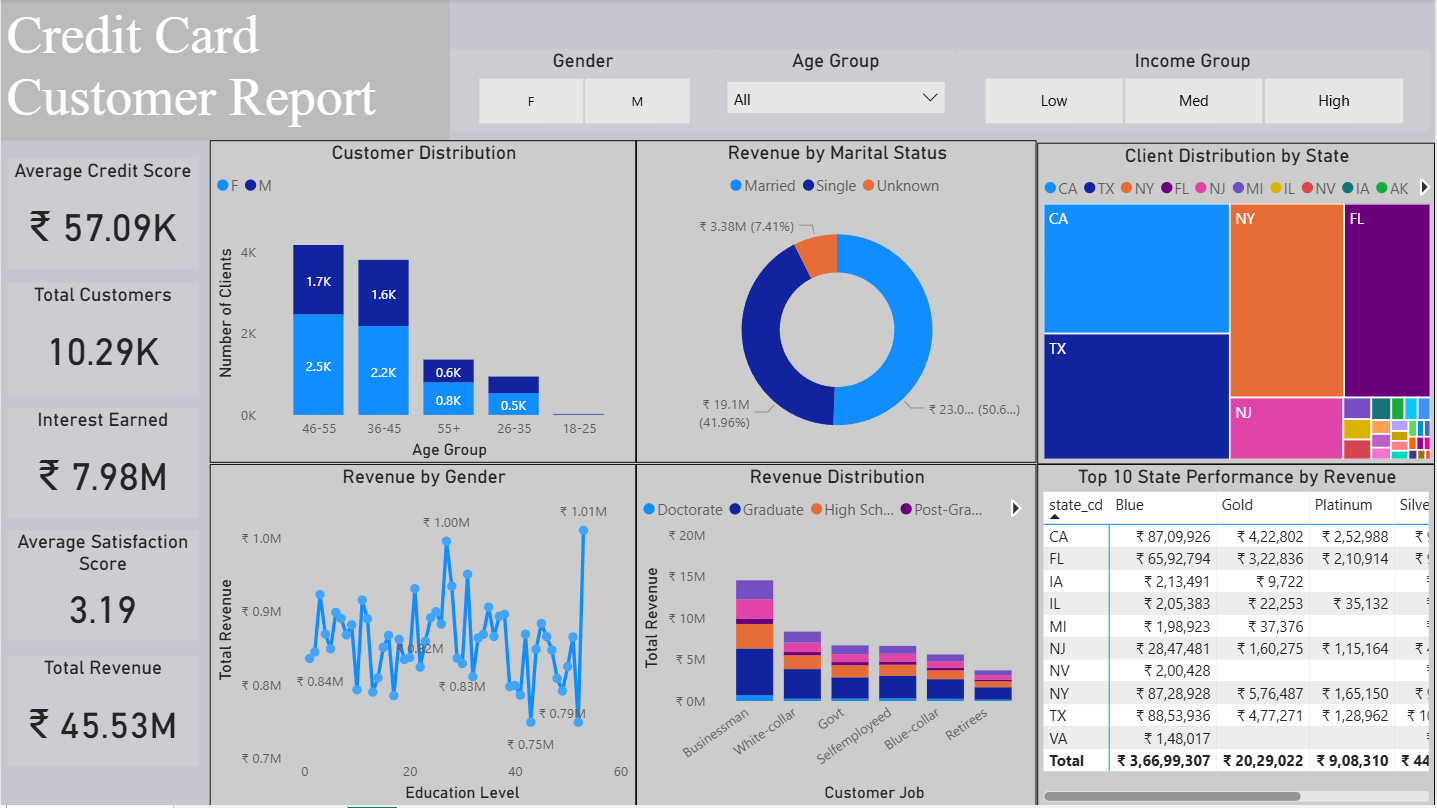

The page's visual inventory and layout, read from the dashboard file:
{"tool":"powerbi","page":{"name":"Customer Report","canvas":[1280,720],"ordinal":0},"visuals":[{"type":"shape","box":[0,126.7,185.9,593.8],"z":0},{"type":"shape","box":[400.9,0,879.6,126.7],"z":1000},{"type":"slicer","title":"Gender","fields":{"Values":["customer.Gender"]},"box":[400.8,45.1,238.2,73.2],"z":2000},{"type":"slicer","title":"Age Group","fields":{"Values":["customer.Age_Group"]},"box":[639,45.1,213.8,73.2],"z":3000},{"type":"slicer","title":"Income Group","fields":{"Values":["customer.Income_Group"]},"box":[852.8,45.1,423,73.2],"z":4000},{"type":"card","title":"Average Credit Score","fields":{"Values":["Key_Measures.Avg_Income"]},"box":[5.8,142.9,170.8,98.8],"z":5000},{"type":"card","title":"Total Revenue","fields":{"Values":["Key_Measures.Total_Revenue"]},"box":[5.8,586.8,170.8,98.8],"z":6000},{"type":"card","title":"Total Customers","fields":{"Values":["CountNonNull(customer.Client_Num)"]},"box":[5.8,253.3,170.8,98.8],"z":9000},{"type":"card","title":"Interest Earned","fields":{"Values":["Sum(CreditCard.Interest_Earned)"]},"box":[5.8,364.9,170.8,98.8],"z":10000},{"type":"card","title":"Average Satisfaction Score","fields":{"Values":["Avg(customer.Cust_Satisfaction_Score)"]},"box":[5.8,474.1,170.8,98.8],"z":11000},{"type":"columnChart","title":"Customer Distribution","fields":{"Category":["customer.Age_Group"],"Y":["CountNonNull(customer.Client_Num)"],"Series":["customer.Gender"]},"box":[185.9,126.7,381.1,288.2],"z":12000},{"type":"lineChart","title":"Revenue by Gender","fields":{"Category":["CreditCard.Week_Num - Copy"],"Y":["Key_Measures.Total_Revenue"]},"box":[185.9,414.8,381.1,305.6],"z":13000},{"type":"donutChart","title":"Revenue by Marital Status","fields":{"Category":["customer.Marital_Status"],"Y":["Key_Measures.Total_Revenue"]},"box":[567,126.7,357.9,288.2],"z":14000},{"type":"lineStackedColumnComboChart","title":"Revenue Distribution","fields":{"Category":["customer.Customer_Job"],"Y":["Key_Measures.Total_Revenue"],"Series":["customer.Education_Level"]},"box":[567,414.8,357.9,305.6],"z":15000},{"type":"treemap","title":"Client Distribution by State","fields":{"Group":["customer.state_cd"],"Values":["CountNonNull(customer.Client_Num)"]},"box":[924.9,127.8,355.6,287],"z":16000},{"type":"pivotTable","title":"Top 10 State Performance by Revenue","fields":{"Rows":["customer.state_cd"],"Columns":["CreditCard.Card_Category"],"Values":["Key_Measures.Total_Revenue"]},"box":[924.9,414.8,355.6,305.6],"z":17000},{"type":"textbox","box":[0,0,400.9,126.7],"z":17001}]}

Visuals, with their boxes in screenshot pixels (x1, y1, x2, y2), scaled from the page's 1280x720 canvas onto the 1437x808 screenshot:
shape: l=0, t=142, r=209, b=807
shape: l=450, t=0, r=1436, b=142
"Gender" slicer: l=450, t=51, r=717, b=133
"Age Group" slicer: l=717, t=51, r=957, b=133
"Income Group" slicer: l=957, t=51, r=1432, b=133
"Average Credit Score" card: l=7, t=160, r=198, b=271
"Total Revenue" card: l=7, t=659, r=198, b=769
"Total Customers" card: l=7, t=284, r=198, b=395
"Interest Earned" card: l=7, t=409, r=198, b=520
"Average Satisfaction Score" card: l=7, t=532, r=198, b=643
"Customer Distribution" columnChart: l=209, t=142, r=637, b=466
"Revenue by Gender" lineChart: l=209, t=465, r=637, b=807
"Revenue by Marital Status" donutChart: l=637, t=142, r=1038, b=466
"Revenue Distribution" lineStackedColumnComboChart: l=637, t=465, r=1038, b=807
"Client Distribution by State" treemap: l=1038, t=143, r=1436, b=465
"Top 10 State Performance by Revenue" pivotTable: l=1038, t=465, r=1436, b=807
textbox: l=0, t=0, r=450, b=142
